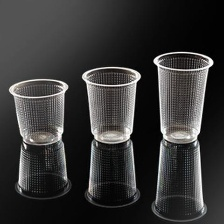glass: (150, 43, 217, 144), (149, 134, 213, 224), (78, 64, 144, 149), (8, 74, 71, 149), (81, 136, 142, 208), (9, 136, 75, 201)
